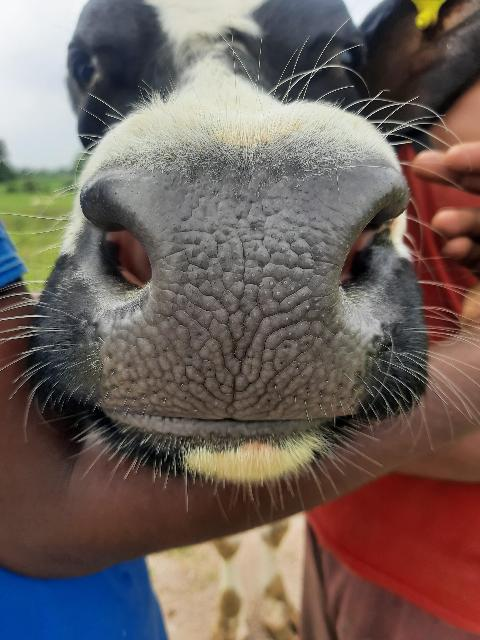Muzzle: (108, 174, 358, 420)
